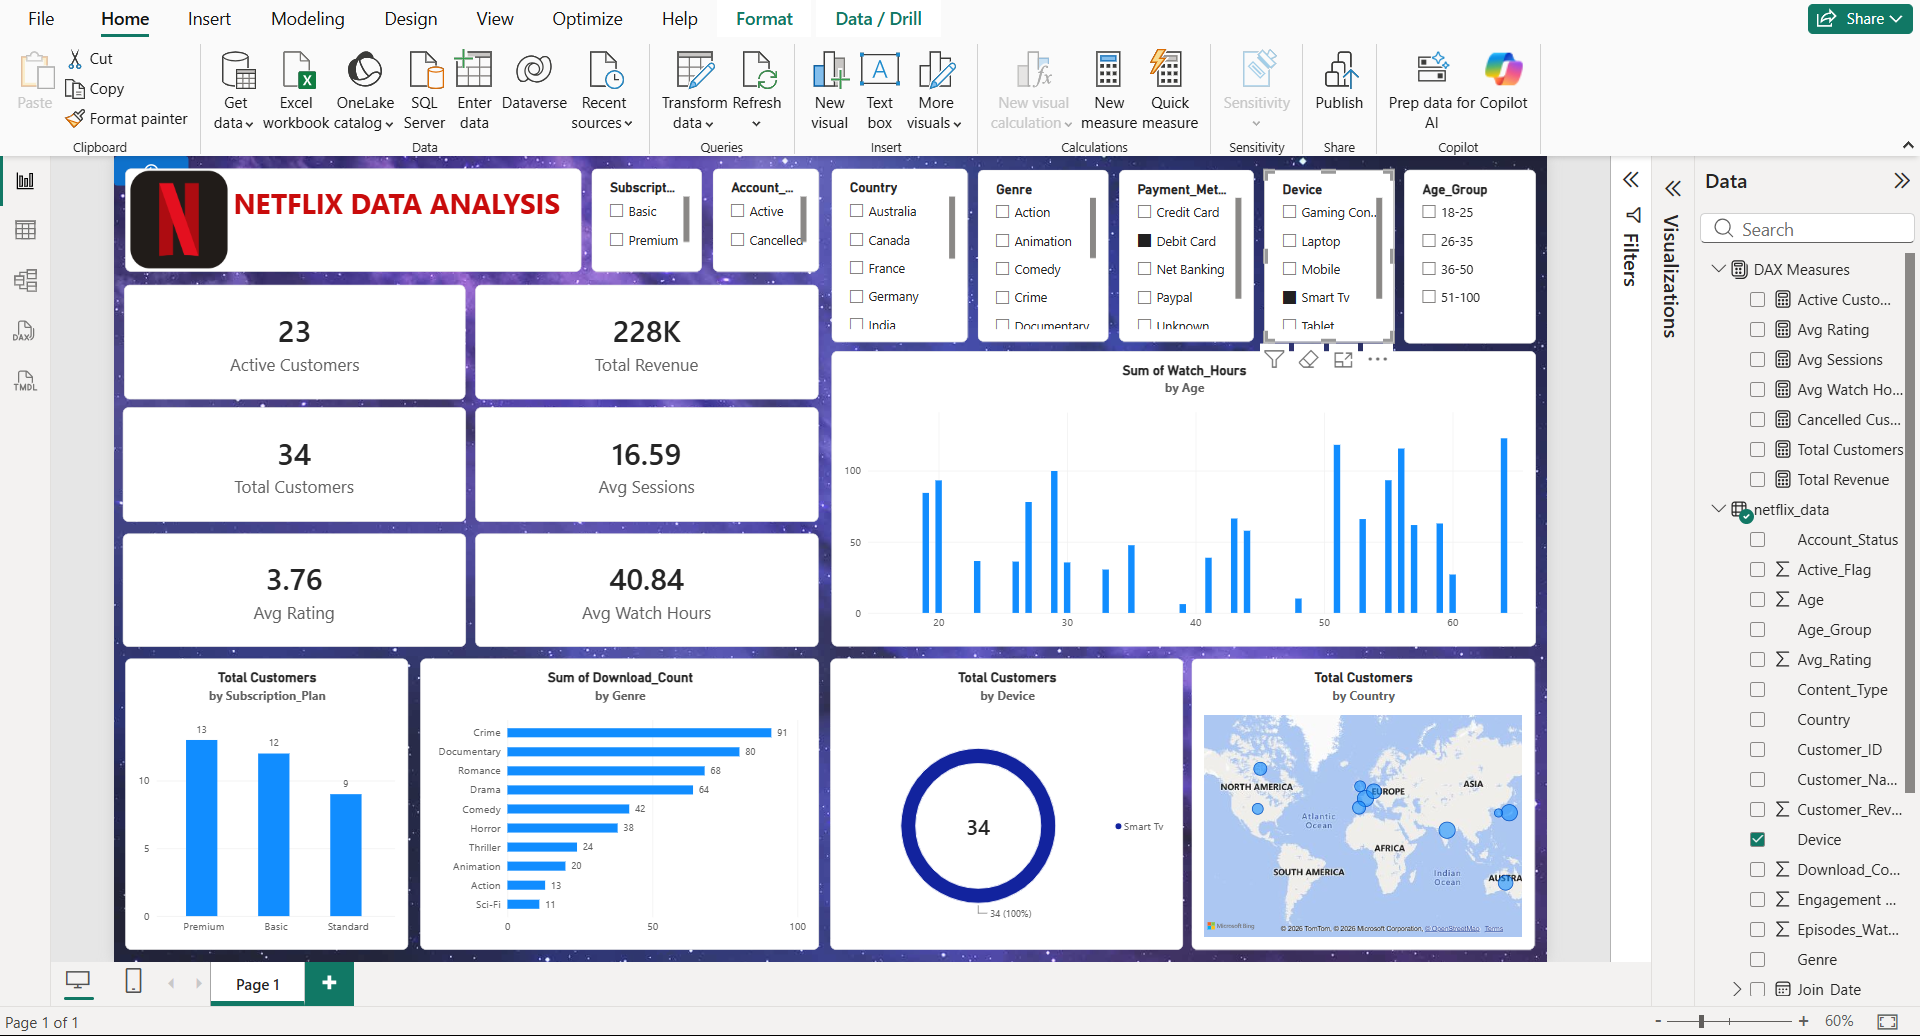

What the dashboard file says about the page in this screenshot:
{"tool":"powerbi","page":{"name":"Page 1","canvas":[1920,1080],"ordinal":0},"visuals":[{"type":"card","fields":{"Values":["DAX Measures.Total Revenue"]},"box":[484.6,173.1,459.6,153.8],"z":0},{"type":"card","fields":{"Values":["DAX Measures.Total Customers"]},"box":[11.5,336.5,459.6,153.8],"z":1000},{"type":"card","fields":{"Values":["DAX Measures.Active Customers"]},"box":[13.5,173.1,457.7,153.8],"z":2000},{"type":"actionButton","box":[0,0,100,40],"z":3000},{"type":"card","fields":{"Values":["DAX Measures.Avg Rating"]},"box":[11.5,505.8,459.6,151.9],"z":4000},{"type":"card","fields":{"Values":["DAX Measures.Avg Watch Hours"]},"box":[484.6,505.8,459.6,151.9],"z":5000},{"type":"clusteredColumnChart","fields":{"Category":["netflix_data.Age"],"Y":["Sum(netflix_data.Watch_Hours)"]},"box":[961.5,261.5,944.2,396.2],"z":6000},{"type":"slicer","fields":{"Values":["netflix_data.Country"]},"box":[961.5,17.3,182.7,232.7],"z":7000},{"type":"slicer","fields":{"Values":["netflix_data.Device"]},"box":[626.9,801.9,242.1,233.1],"z":8000},{"type":"slicer","fields":{"Values":["netflix_data.Subscription_Plan"]},"box":[640.4,17.3,148.1,138.5],"z":9000},{"type":"slicer","fields":{"Values":["netflix_data.Genre"]},"box":[1157.7,19.2,175,230.8],"z":10000},{"type":"slicer","fields":{"Values":["netflix_data.Account_Status"]},"box":[801.9,17.3,142.3,138.5],"z":11000},{"type":"columnChart","fields":{"Category":["netflix_data.Subscription_Plan"],"Y":["DAX Measures.Total Customers"]},"box":[15.4,673.1,378.8,390.4],"z":12000},{"type":"map","fields":{"Category":["netflix_data.Country"],"Size":["DAX Measures.Total Customers"]},"box":[1444.2,673.1,459.6,390.4],"z":13000},{"type":"barChart","fields":{"Category":["netflix_data.Genre"],"Y":["Sum(netflix_data.Download_Count)"]},"box":[409.6,673.1,534.6,390.4],"z":14000},{"type":"donutChart","fields":{"Category":["netflix_data.Device"],"Y":["DAX Measures.Total Customers"]},"box":[959.6,673.1,473.1,390.4],"z":15000},{"type":"slicer","fields":{"Values":["netflix_data.Age_Group"]},"box":[1728.8,19.2,176.9,232.7],"z":16000},{"type":"textbox","box":[15.4,17.3,611.5,138.5],"z":17000},{"type":"card","fields":{"Values":["DAX Measures.Avg Sessions"]},"box":[484.6,336.5,459.6,153.8],"z":18000},{"type":"slicer","fields":{"Values":["netflix_data.Payment_Method"]},"box":[1346.2,19.2,180.8,230.8],"z":19000},{"type":"image","box":[15.4,17.3,144.2,136.5],"z":20000},{"type":"slicer","fields":{"Values":["netflix_data.Device"]},"box":[1540.4,19.2,175,230.8],"z":21000}]}

Visuals, with their boxes on the page's 1920x1080 design canvas (x1, y1, x2, y2). These are canvas units, not pixel positions in the 1920x1036 screenshot, which may show the page scaled, cropped or inside an application window:
card - DAX Measures.Total Revenue: 485:173:944:327
card - DAX Measures.Total Customers: 12:336:471:490
card - DAX Measures.Active Customers: 14:173:471:327
actionButton: 0:0:100:40
card - DAX Measures.Avg Rating: 12:506:471:658
card - DAX Measures.Avg Watch Hours: 485:506:944:658
clusteredColumnChart - netflix_data.Age x Sum(netflix_data.Watch_Hours): 962:262:1906:658
slicer - netflix_data.Country: 962:17:1144:250
slicer - netflix_data.Device: 627:802:869:1035
slicer - netflix_data.Subscription_Plan: 640:17:788:156
slicer - netflix_data.Genre: 1158:19:1333:250
slicer - netflix_data.Account_Status: 802:17:944:156
columnChart - netflix_data.Subscription_Plan x DAX Measures.Total Customers: 15:673:394:1064
map - netflix_data.Country x DAX Measures.Total Customers: 1444:673:1904:1064
barChart - netflix_data.Genre x Sum(netflix_data.Download_Count): 410:673:944:1064
donutChart - netflix_data.Device x DAX Measures.Total Customers: 960:673:1433:1064
slicer - netflix_data.Age_Group: 1729:19:1906:252
textbox: 15:17:627:156
card - DAX Measures.Avg Sessions: 485:336:944:490
slicer - netflix_data.Payment_Method: 1346:19:1527:250
image: 15:17:160:154
slicer - netflix_data.Device: 1540:19:1715:250
